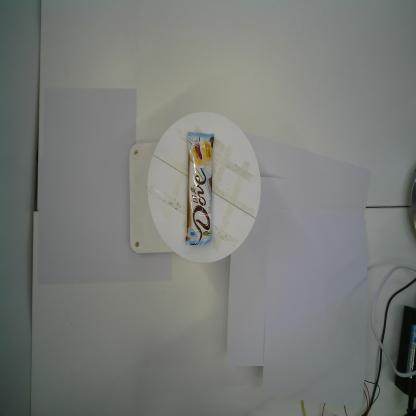Chocolate: (185, 131, 214, 245)
